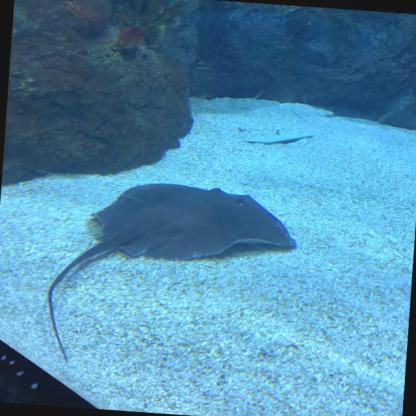stingray: (87, 179, 300, 269)
